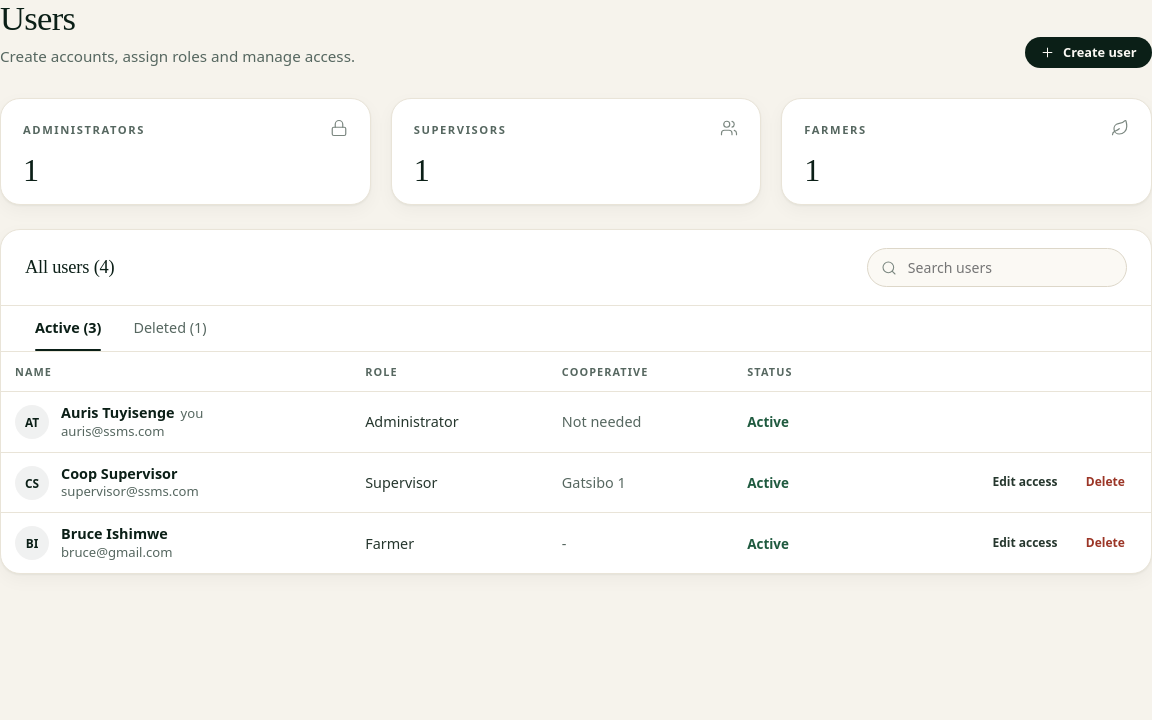
Scenario: Users page › Edit access › shows what will change and asks again before saving a new role
Click the button with aria-label "Edit access for Bruce Ishimwe".
click(1025, 543)  # box [980,531,1070,556]
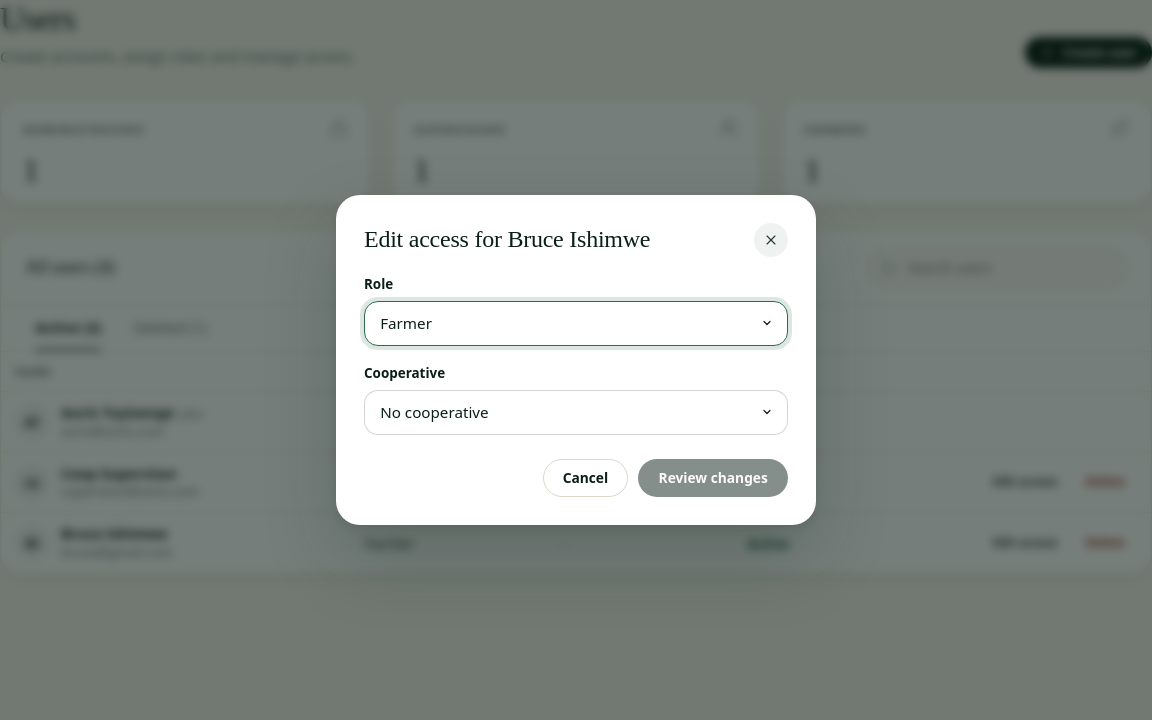
Select "Supervisor" in the dropdown labelled "Role" at (576, 323), box [364,301,788,346]
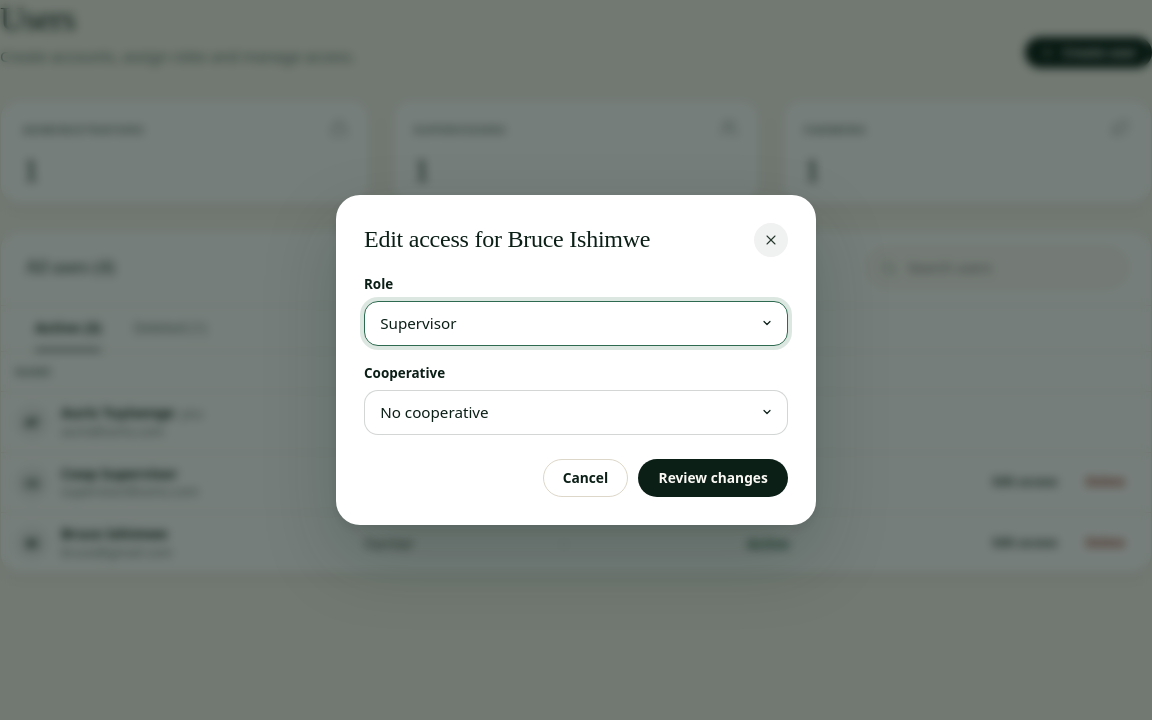
Click the button "Review changes".
click(713, 478)  # box [638,459,788,497]
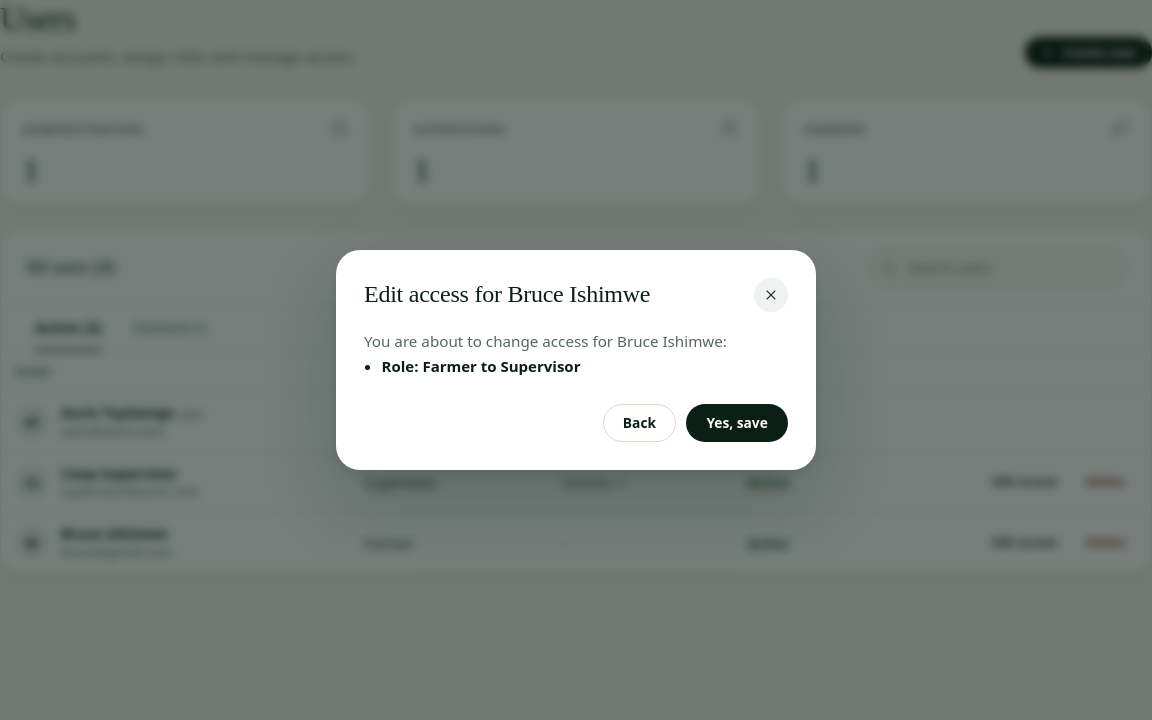
Expected: the dialog "Edit access for Bruce Ishimwe" shows "Role: Farmer to Supervisor", [382,356,580,376]
Click the button "Yes, save".
click(737, 423)  # box [686,404,788,442]
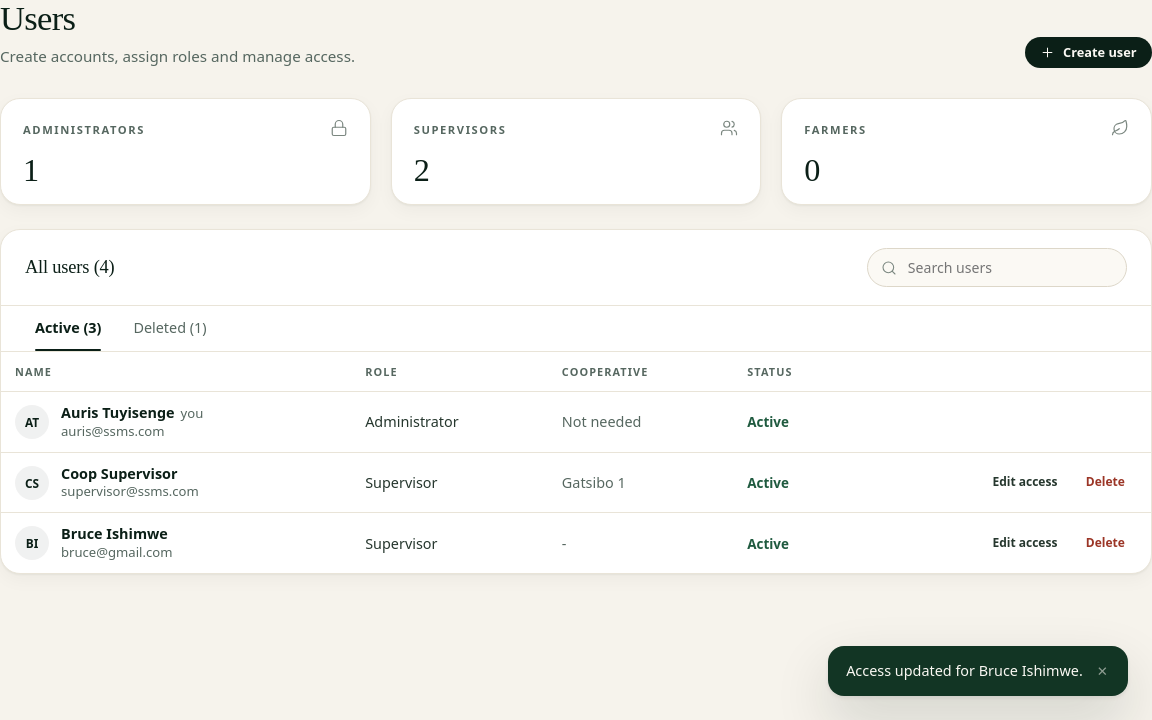
Expected: the text "Access updated for Bruce Ishimwe." is shown, [846,660,1083,682]
